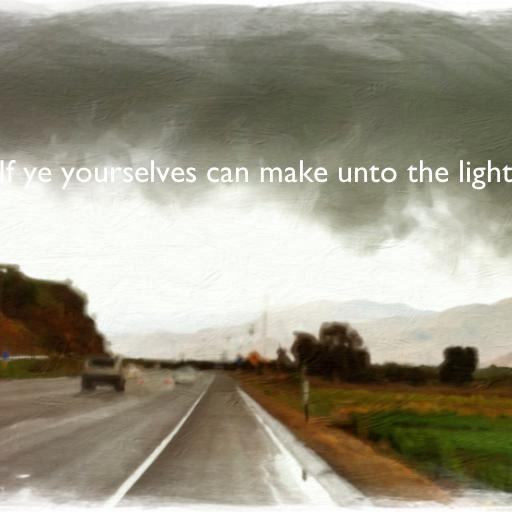Gill Sans: (0, 159, 512, 190)
